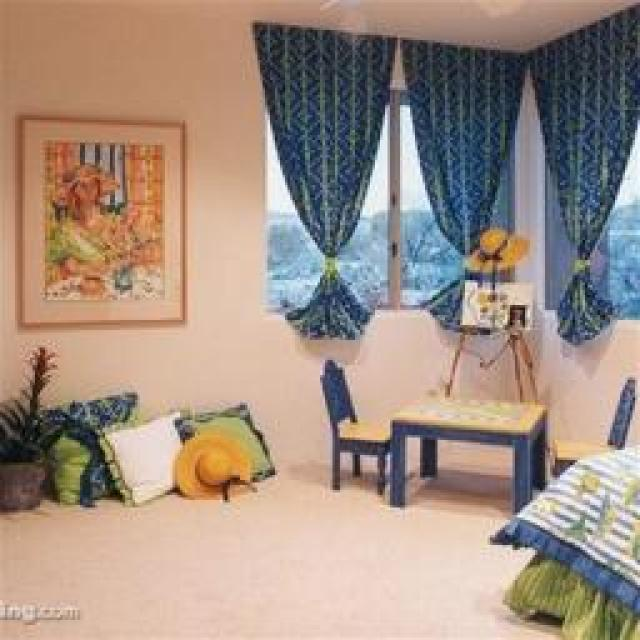chair: (318, 358, 390, 492), (550, 370, 638, 478)
curtains: (250, 20, 395, 340), (525, 0, 637, 345), (397, 35, 525, 330)
plants: (0, 342, 68, 510)
pots: (0, 458, 45, 510)
table: (387, 392, 545, 512)
